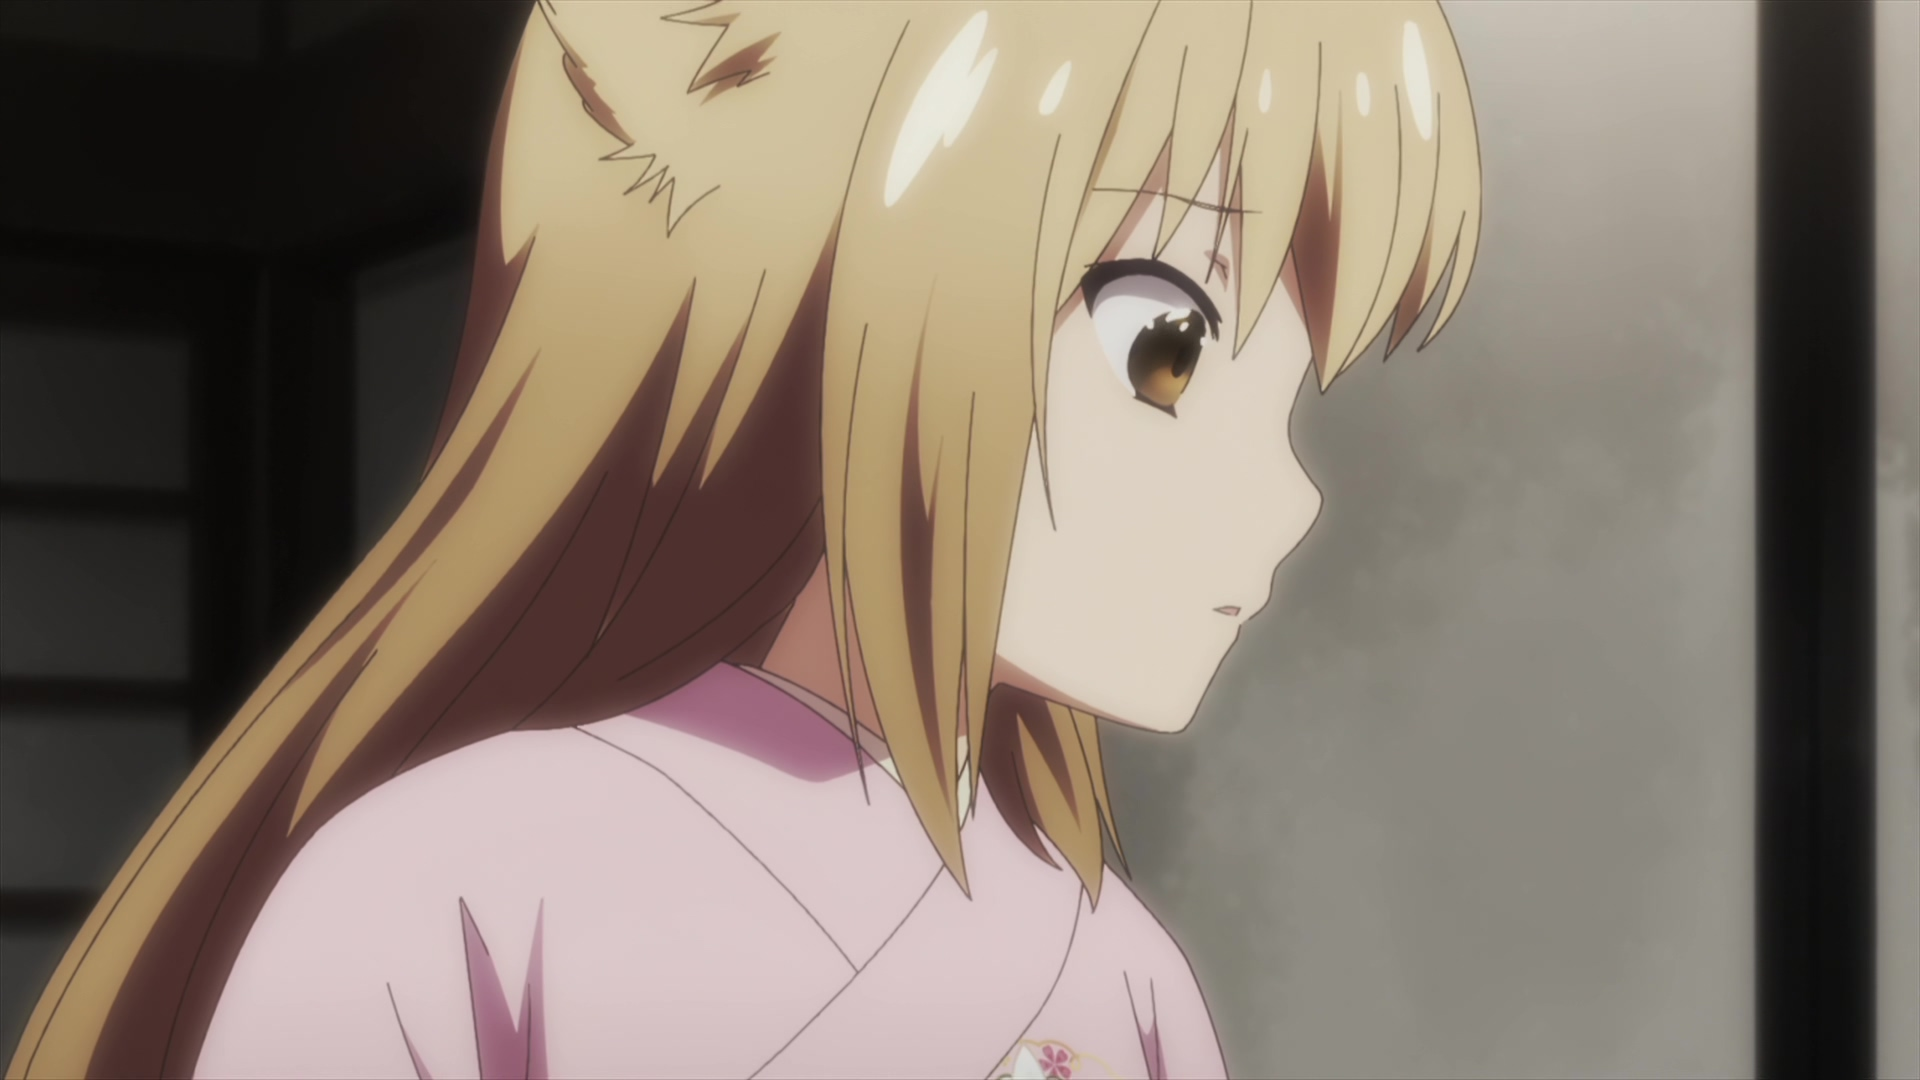柚: (1, 1, 1481, 1080)
